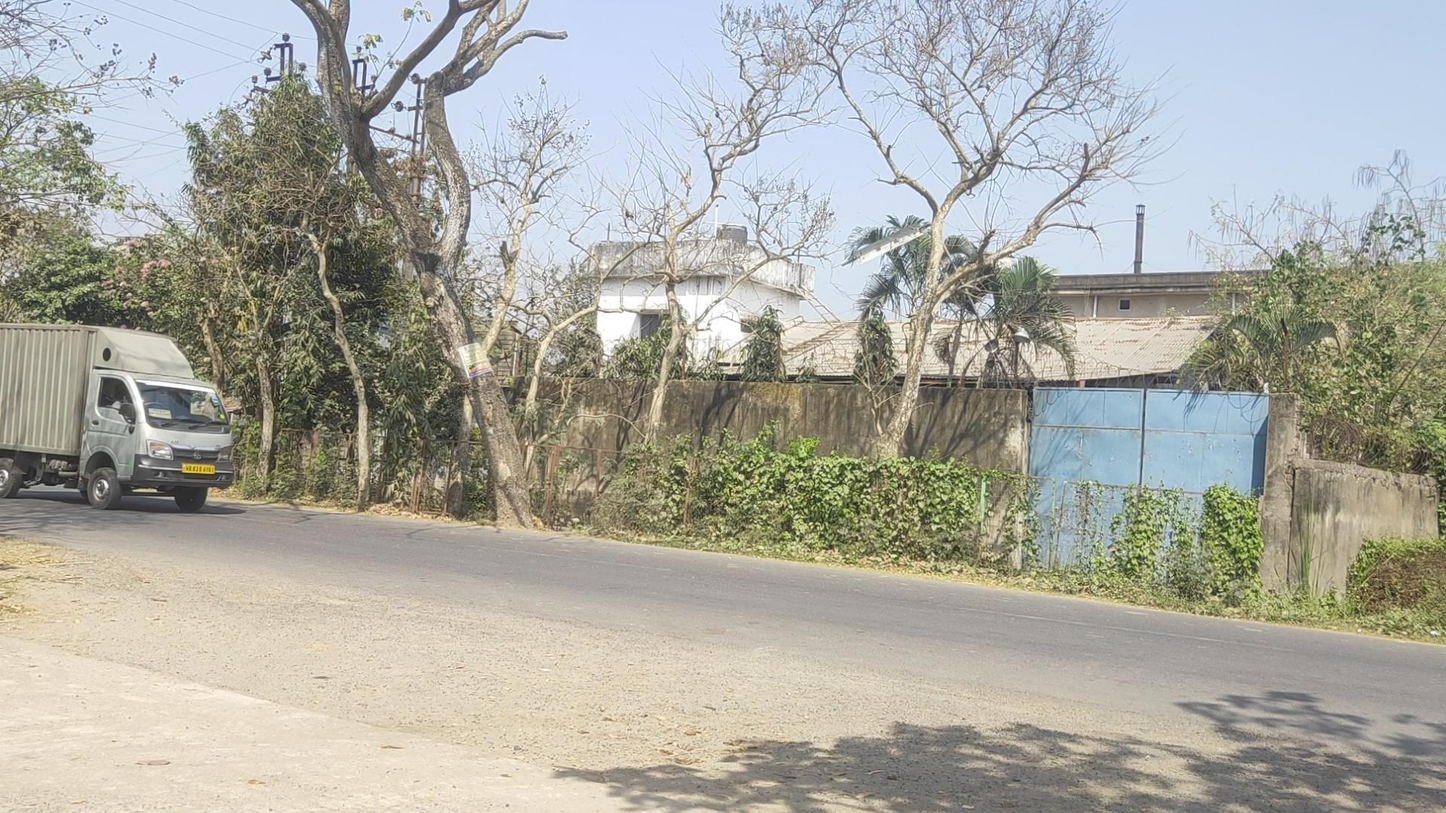Auto: (1, 322, 233, 510)
